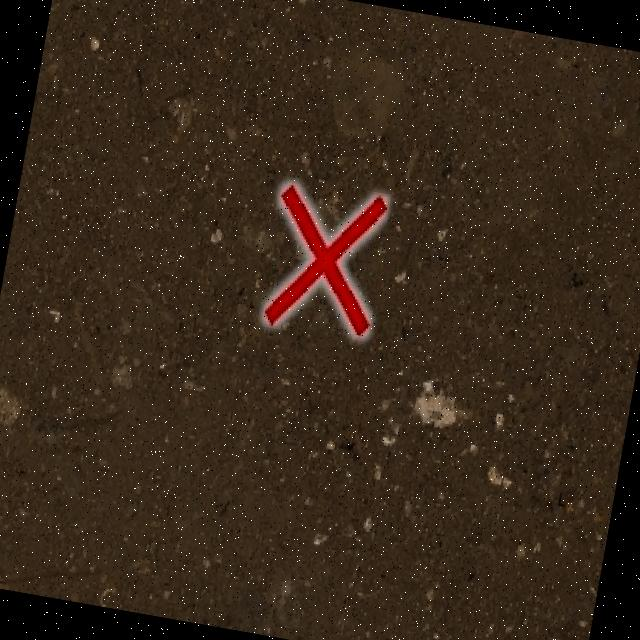x_marker: (258, 179, 389, 337)
